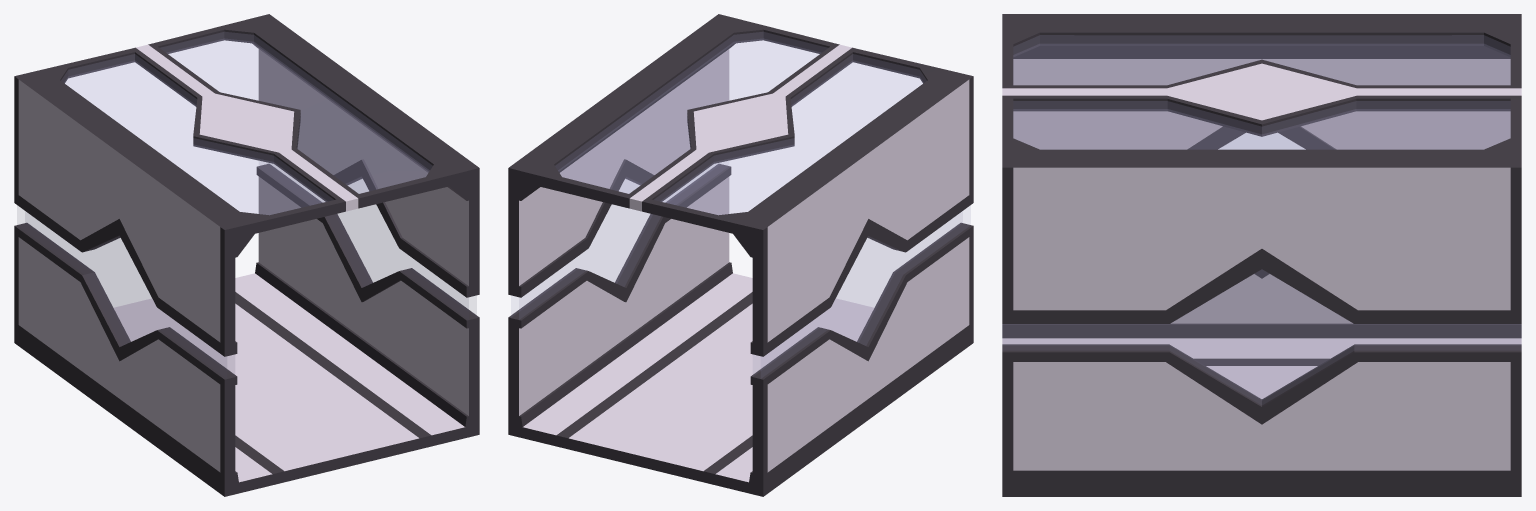
Rendered from secionTunel.fbx.
3 views of the same model, side by side, from view 1: azimuth 30°, elevation 25°; view 2: azimuth 150°, elevation 25°; view 3: azimuth 270°, elevation 25° (orthographic). The views are drawn at different scales.
Parts seen in each view (by area): view 1: Plane.004, glass.004; view 2: Plane.004, glass.004; view 3: Plane.004, glass.004.
Part boxes in pixels (<box>): Plane.004: <box>14,14,479,496</box>; glass.004: <box>17,32,476,377</box>; Plane.004: <box>508,14,973,496</box>; glass.004: <box>511,32,970,377</box>; Plane.004: <box>1002,14,1521,496</box>; glass.004: <box>1002,35,1521,404</box>.
Size of the model in its own units: 1400 by 1400 by 2000.
2 materials, 1 textured.
